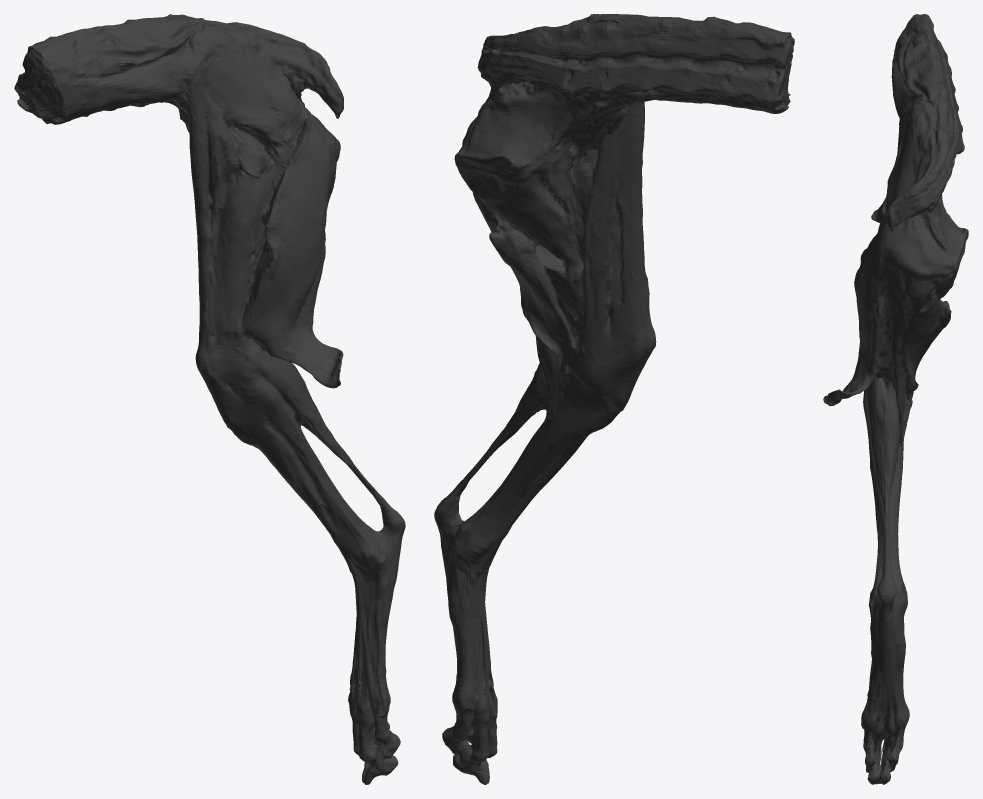
File: ZBrushPolyMesh3D.glb
The picture shows the model from 3 angles, left to right: view 1: azimuth 30°, elevation 25°; view 2: azimuth 150°, elevation 25°; view 3: azimuth 270°, elevation 25°; orthographic projection. The views are drawn at different scales.
Visible parts, largest first — view 1: ZBrushPolyMesh3D; view 2: ZBrushPolyMesh3D; view 3: ZBrushPolyMesh3D.
Boxes of the visible parts, box(x1,y1,x2,y2) form: ZBrushPolyMesh3D: box(14, 14, 405, 784); ZBrushPolyMesh3D: box(434, 14, 794, 784); ZBrushPolyMesh3D: box(823, 14, 968, 784).
Bounding box in the file's own units: 0.0098 × 0.0209 × 0.00424.
Materials: 1 (1 with a texture image).
